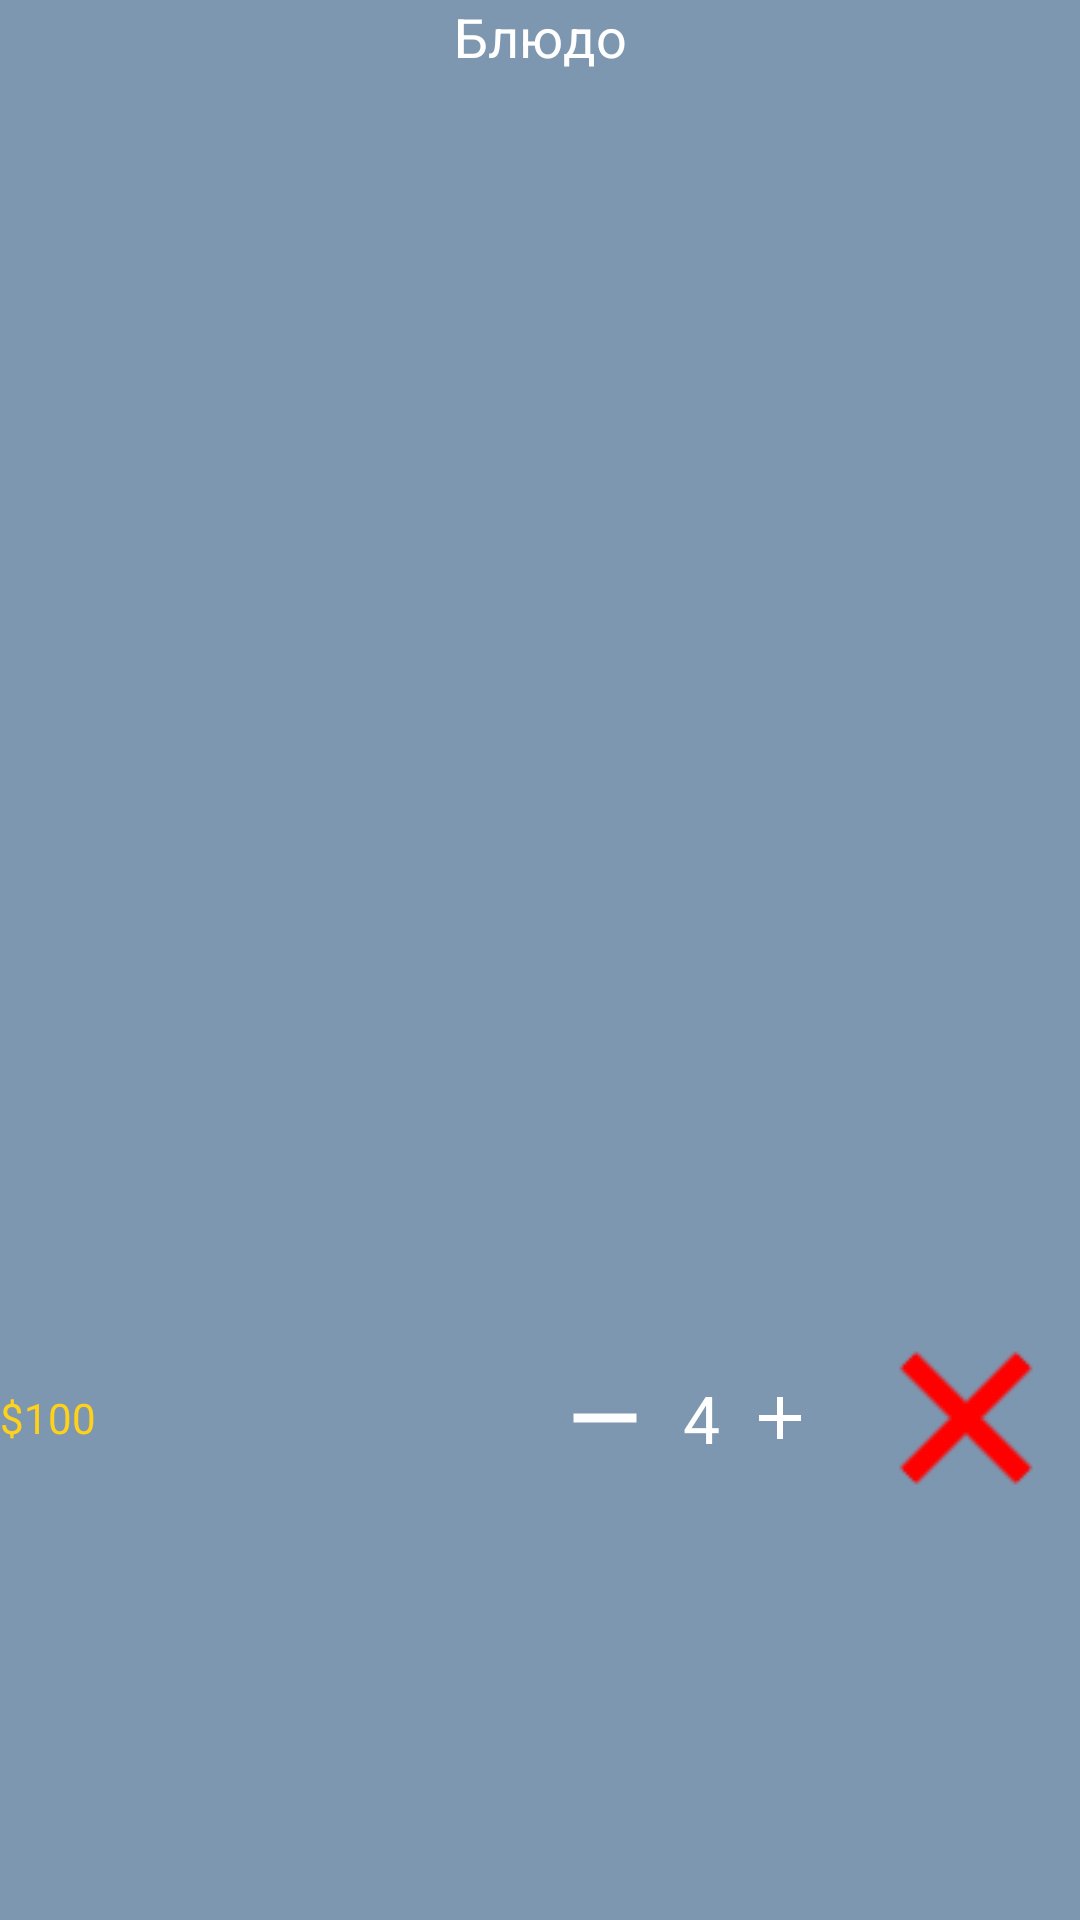

Where to tap for icons on this 1080w x 1920h app screen, as [x,y]:
add: [780,1418]
close: [966,1418]
